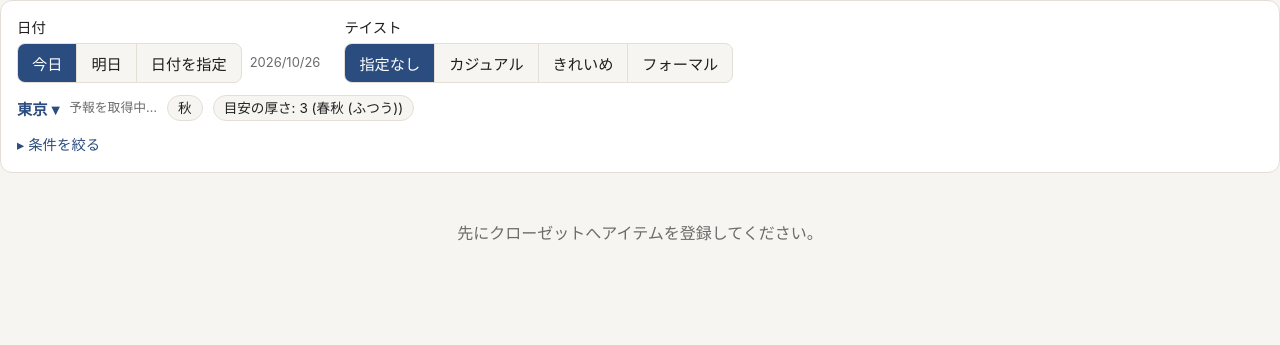
Test: SuggestView forecast › fills the temperature with the forecast maximum and shows the source
Click the button "▸ 条件を絞る". click: click(59, 144)
box: [17,133,100,154]
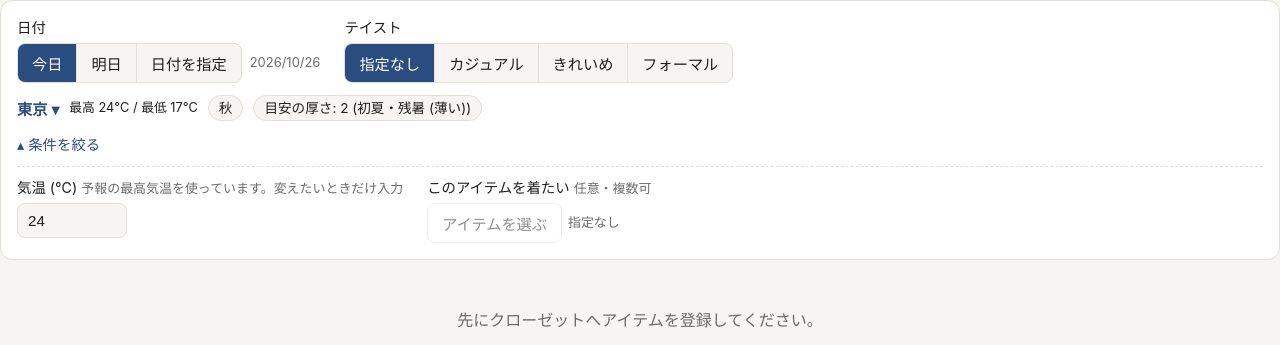
Expected: the element with test id "cond-status" shows "東京", [17,97,59,119]
Result: the number field with placeholder "例: 18" holds "24" at [17,203,127,238]
Result: the text "最高 24℃ / 最低 17℃" is shown at [69,98,198,117]
